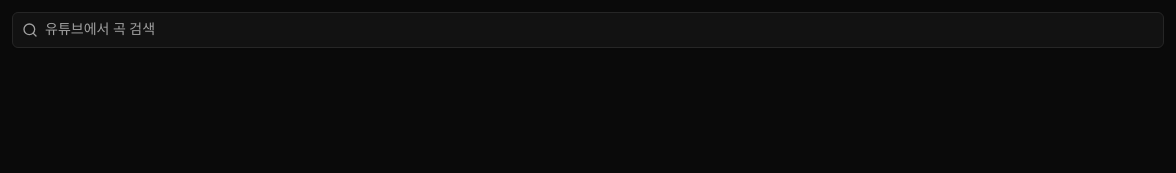
Scenario: MusicSearch › 검색어 입력 → (디바운스 후) 결과 목록 렌더
The width and height of the screenshot is (1176, 173).
Type "rick" into the search field with test id "music-search-input" at (588, 30), box x1=12 y1=12 x2=1164 y2=48
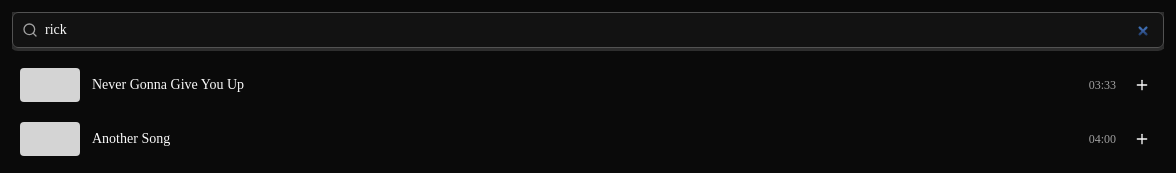
expect the text "Never Gonna Give You Up" is shown: met, box x1=92 y1=77 x2=244 y2=92
expect the text "Another Song" is shown: met, box x1=92 y1=131 x2=170 y2=146
expect the text "04:00" is shown: met, box x1=1089 y1=131 x2=1116 y2=147
